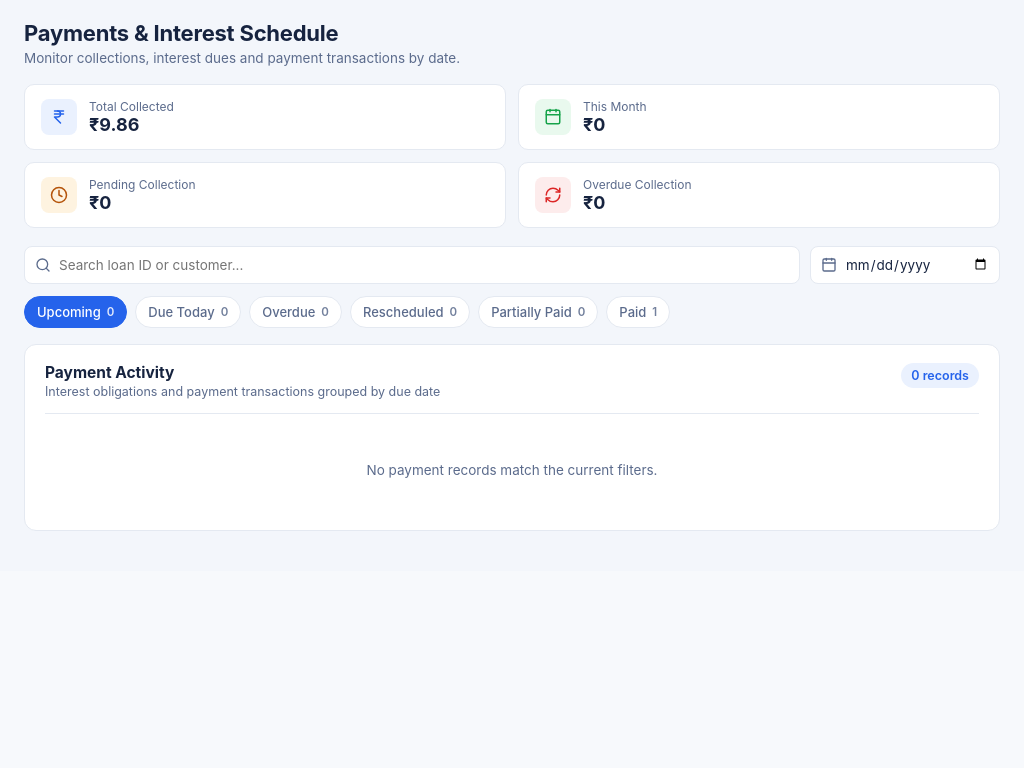
Scenario: Payments › hides zero-value schedules and closed-loan future dues while retaining paid history in Paid tab
The image size is (1024, 768).
Expected: the text "LN-003" is not shown
Expected: the text "0 records" is shown, x1=901 y1=363 x2=979 y2=388
Click the button "Paid 1". click: (638,312)
box: x1=606 y1=296 x2=670 y2=328
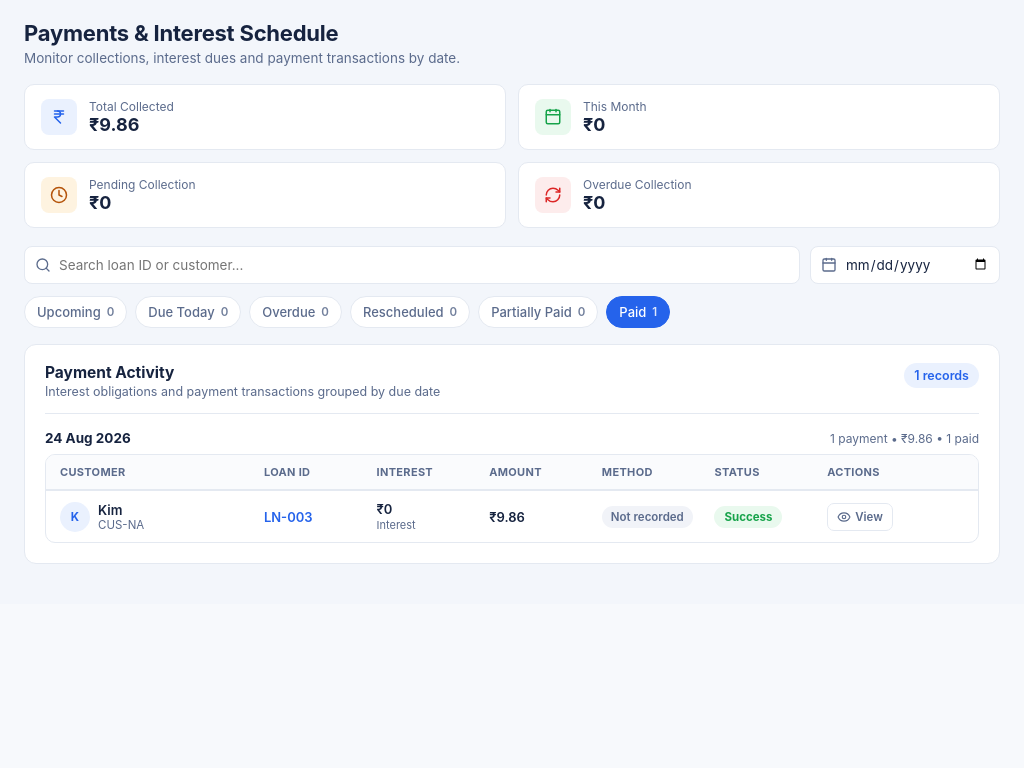
Expected: the text "LN-003" is shown, x1=264 y1=508 x2=313 y2=524
Expected: the text "1 records" is shown, x1=904 y1=363 x2=979 y2=388
